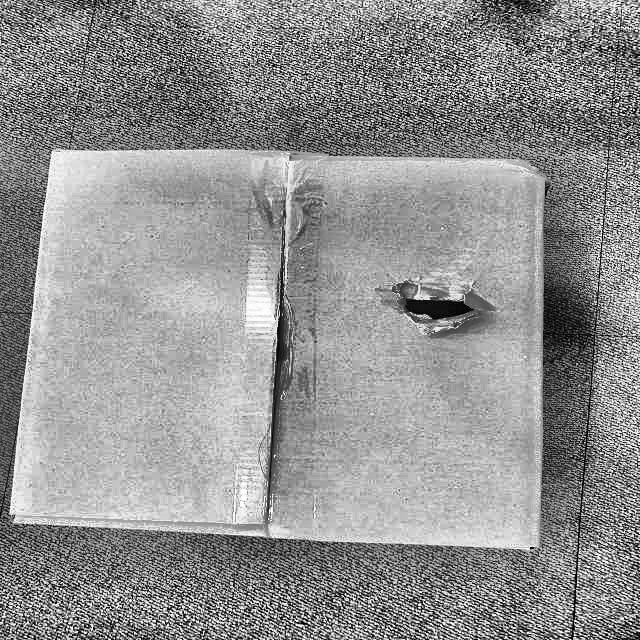box: (10, 136, 557, 561)
hole: (373, 280, 497, 341)
